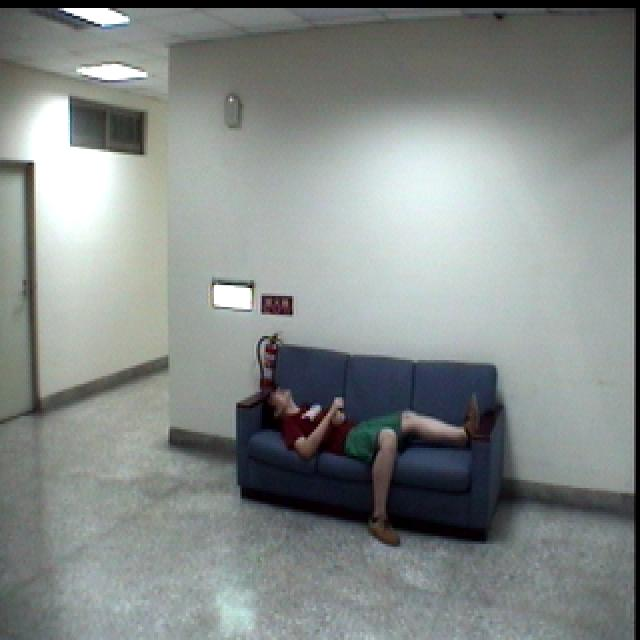lie: (262, 374, 485, 556)
